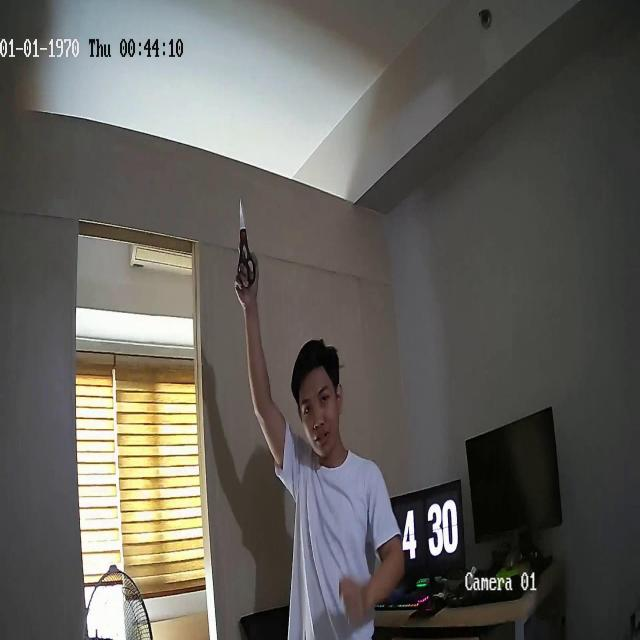scissor: (238, 200, 256, 290)
